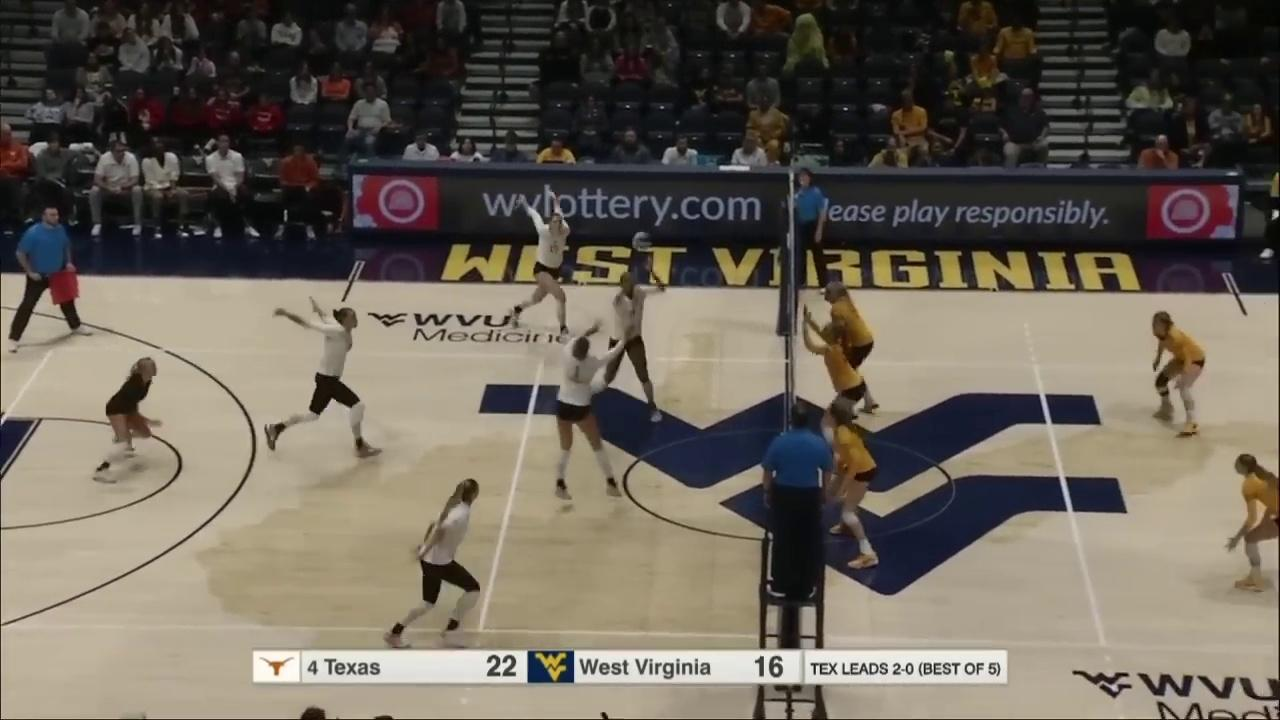player: (263, 306, 382, 455), (384, 476, 484, 647), (554, 321, 631, 500), (580, 264, 666, 419), (803, 307, 866, 491), (508, 189, 574, 337), (826, 403, 883, 568), (89, 357, 160, 484), (822, 281, 881, 421), (1227, 454, 1280, 597), (1149, 311, 1208, 437)
refree: (761, 405, 833, 597), (10, 208, 92, 346), (784, 170, 828, 292)
